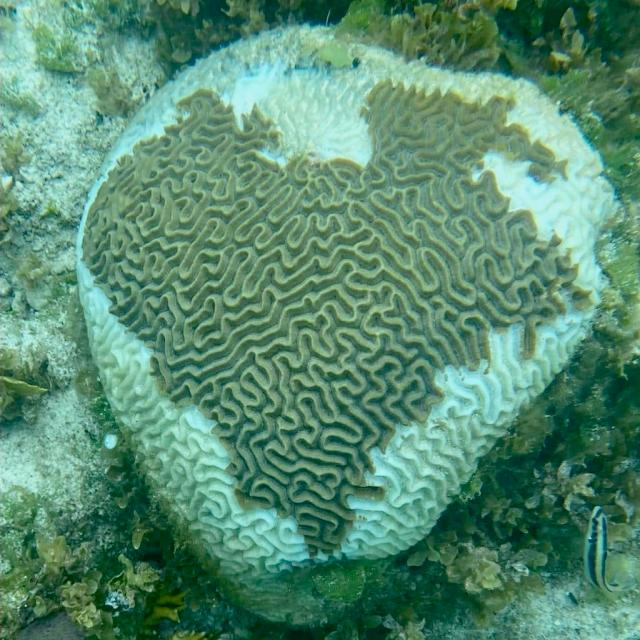Coral: (75, 26, 621, 628)
